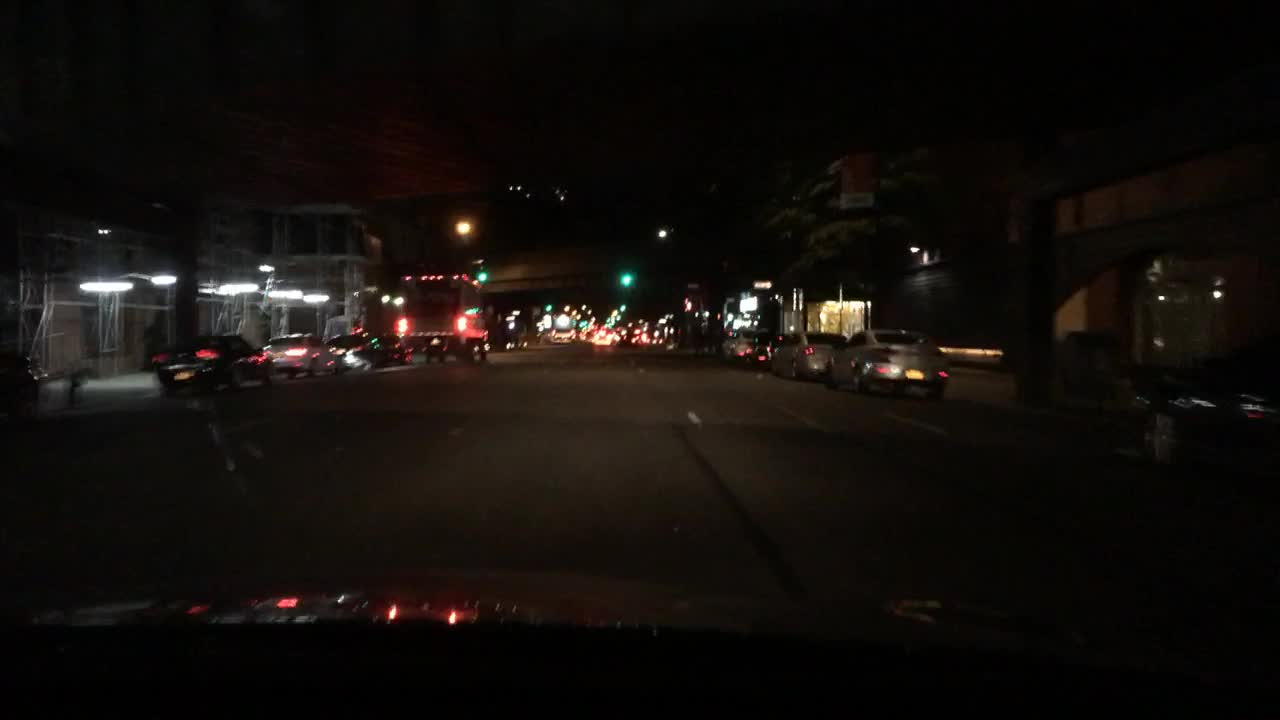car: (1063, 348, 1278, 475), (825, 327, 951, 401), (150, 331, 274, 395), (0, 346, 48, 440), (328, 327, 416, 373), (770, 330, 847, 379), (265, 332, 345, 376), (492, 309, 537, 352), (720, 325, 757, 359), (633, 321, 668, 350), (750, 329, 776, 366), (593, 321, 618, 347), (546, 325, 577, 345), (621, 327, 631, 341), (579, 332, 593, 341)
traffic light: (620, 271, 636, 289), (476, 262, 489, 283), (577, 315, 587, 330), (544, 303, 553, 314)
traffic sign: (842, 157, 874, 208)
truck: (401, 274, 490, 363)
